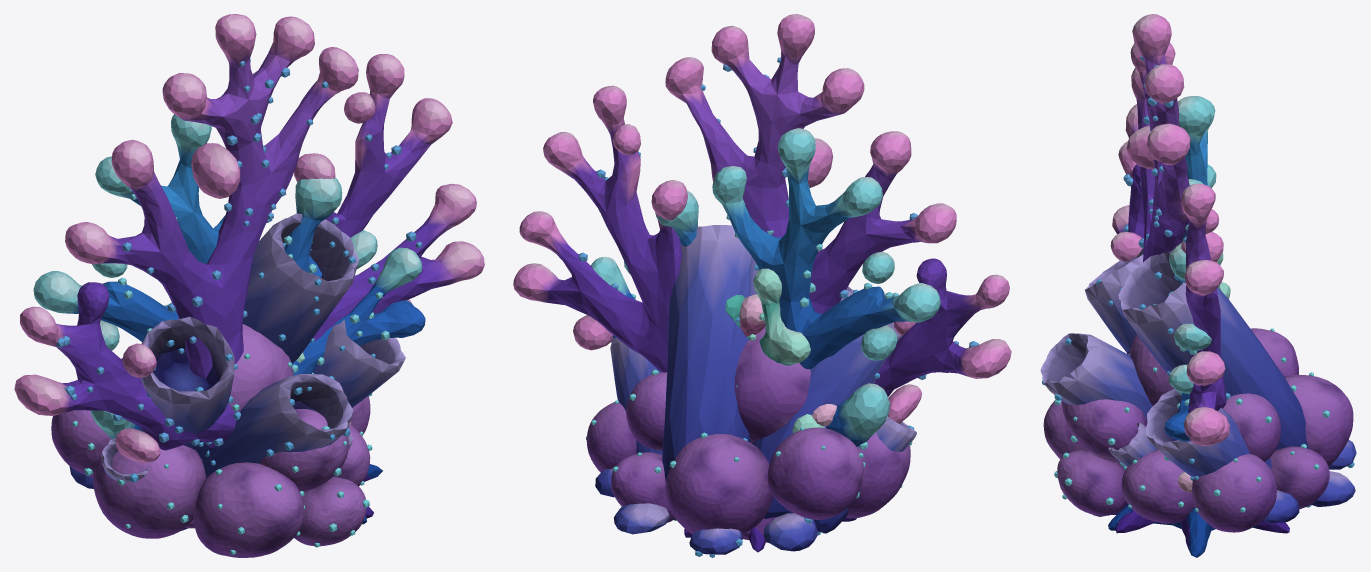
The model's file is glow-corals.glb.
3 views of the same model, side by side, from view 1: azimuth 30°, elevation 25°; view 2: azimuth 150°, elevation 25°; view 3: azimuth 270°, elevation 25° (orthographic). The views are drawn at different scales.
Visible parts, largest first — view 1: coral_purple_body, coral_tubes_body, coral_bubbles_body, coral_purple_glow, coral_blue_body, coral_blue_glow, coral_tubes_glow, coral_bubbles_glow; view 2: coral_purple_body, coral_bubbles_body, coral_tubes_body, coral_purple_glow, coral_blue_body, coral_blue_glow, coral_teal_glow, coral_pink_glow, coral_teal_body; view 3: coral_bubbles_body, coral_tubes_body, coral_purple_glow, coral_purple_body, coral_blue_glow, coral_blue_body, coral_bubbles_glow, coral_tubes_glow.
Boxes of the visible parts, <box> form: coral_purple_body: <box>57,42,457,530</box>; coral_tubes_body: <box>69,213,405,488</box>; coral_bubbles_body: <box>51,324,370,557</box>; coral_purple_glow: <box>14,14,484,462</box>; coral_blue_body: <box>69,146,425,524</box>; coral_blue_glow: <box>33,114,422,441</box>; coral_tubes_glow: <box>129,241,375,482</box>; coral_bubbles_glow: <box>72,353,372,554</box>; coral_purple_body: <box>537,50,980,552</box>; coral_bubbles_body: <box>586,326,910,542</box>; coral_tubes_body: <box>595,225,916,554</box>; coral_purple_glow: <box>513,14,1011,423</box>; coral_blue_body: <box>611,163,911,446</box>; coral_blue_glow: <box>591,128,940,449</box>; coral_teal_glow: <box>749,268,824,432</box>; coral_pink_glow: <box>739,294,836,426</box>; coral_teal_body: <box>674,294,792,520</box>; coral_bubbles_body: <box>1043,328,1353,532</box>; coral_tubes_body: <box>1040,248,1356,522</box>; coral_purple_glow: <box>1110,14,1229,445</box>; coral_purple_body: <box>1093,53,1289,551</box>; coral_blue_glow: <box>1168,96,1216,408</box>; coral_blue_body: <box>1108,131,1257,557</box>; coral_bubbles_glow: <box>1054,328,1329,512</box>; coral_tubes_glow: <box>1042,271,1354,507</box>.
Size of the model in its own units: 2.93 by 2.97 by 1.81.
